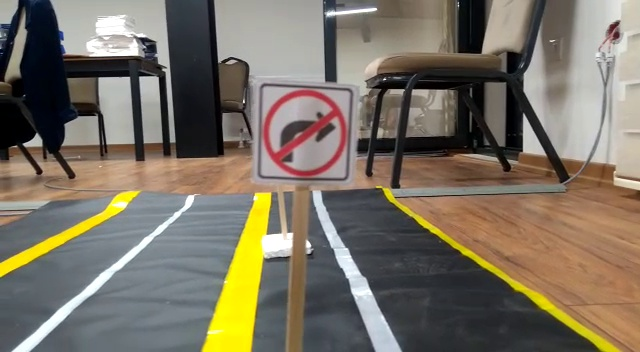saga_donulmez: (259, 85, 352, 181)
